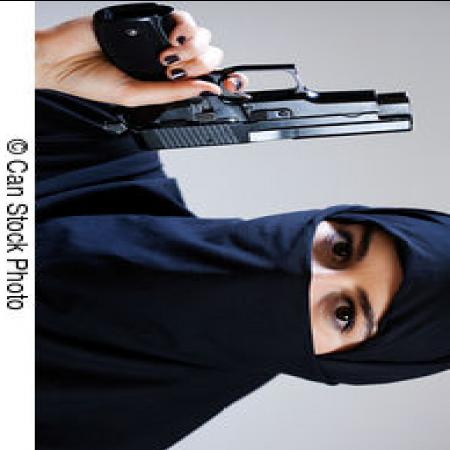Pistol: (91, 2, 415, 150)
